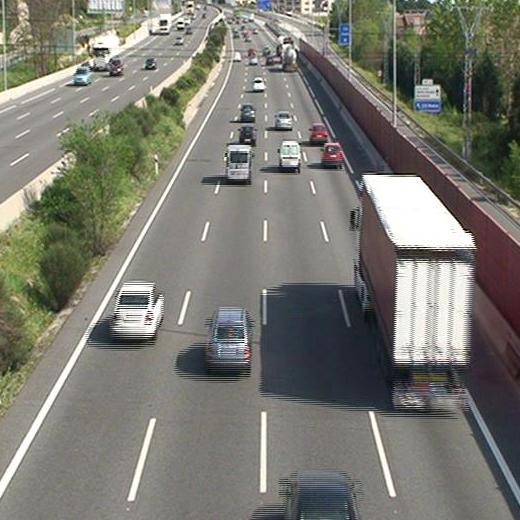car: (110, 280, 163, 338), (206, 308, 252, 371), (321, 142, 343, 166), (238, 125, 257, 145), (310, 124, 327, 142), (275, 111, 292, 129), (241, 104, 255, 122), (252, 79, 265, 92)
truck: (354, 175, 474, 410)
van: (227, 148, 252, 182), (279, 142, 302, 171)
